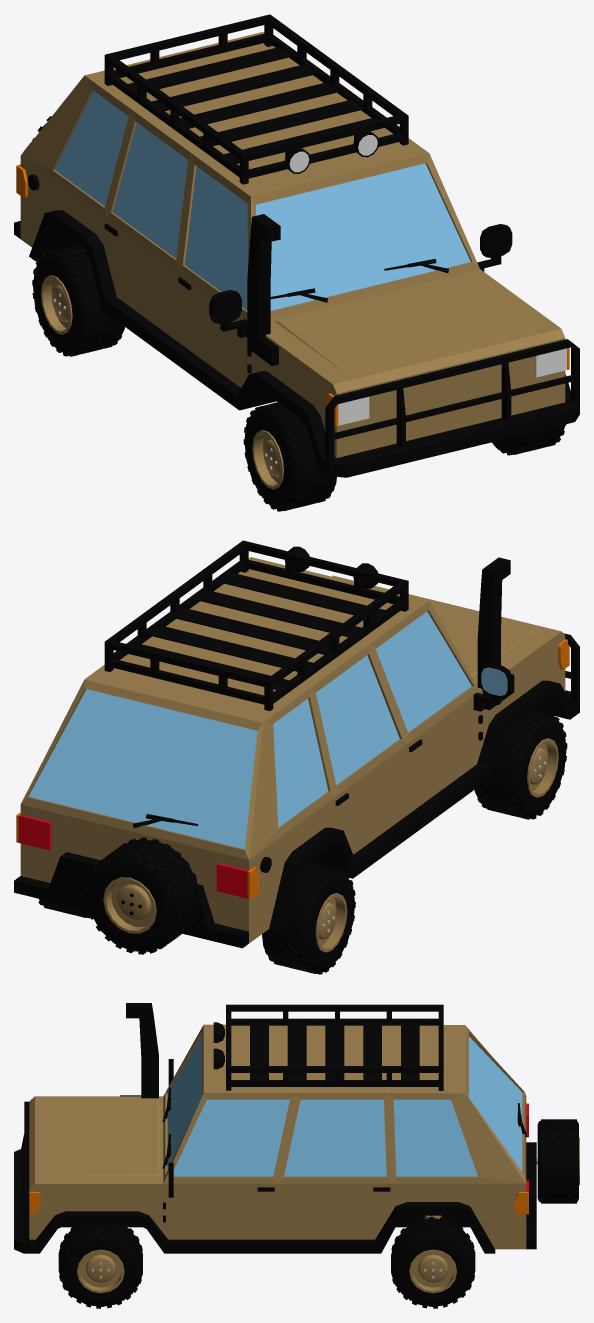
Rendered from CarOffRoad.fbx.
3 renders of one model, top to bottom at view 1: azimuth 30°, elevation 25°; view 2: azimuth 150°, elevation 25°; view 3: azimuth 270°, elevation 25°, orthographic. The views are drawn at different scales.
Parts seen in each view (by area): view 1: Body, BodyHolder, Chassis, WheelRearRight, WheelFrontRight, BodyAccent, BodyDetails, WheelFrontLeft; view 2: Body, BodyHolder, Chassis, WheelSpare, WheelRearRight, WheelFrontRight, BodyAccent, BodyDetails; view 3: Body, BodyHolder, Chassis, WheelRearLeft, WheelFrontLeft, WheelSpare, BodyAccent, BodyDetails.
Boxes of the visible parts, x1,y1,x2,y2 form: Body: (16,32,569,457); BodyHolder: (104,14,408,184); Chassis: (14,210,579,477); WheelRearRight: (32,244,124,356); WheelFrontRight: (243,402,336,511); BodyAccent: (28,174,448,365); BodyDetails: (104,223,512,373); WheelFrontLeft: (492,424,566,455); Body: (16,557,569,943); BodyHolder: (104,540,408,710); Chassis: (14,633,579,948); WheelSpare: (85,837,200,954); WheelRearRight: (262,862,355,974); WheelFrontRight: (474,710,567,819); BodyAccent: (133,557,514,872); BodyDetails: (335,663,512,805); Body: (29,1024,528,1249); BodyHolder: (213,1004,443,1090); Chassis: (14,1101,536,1253); WheelRearLeft: (391,1217,475,1308); WheelFrontLeft: (58,1225,142,1308); WheelSpare: (536,1119,579,1203); BodyAccent: (120,1003,527,1168); BodyDetails: (163,1059,390,1222).
Size of the model in its own units: 262 by 235 by 546.
